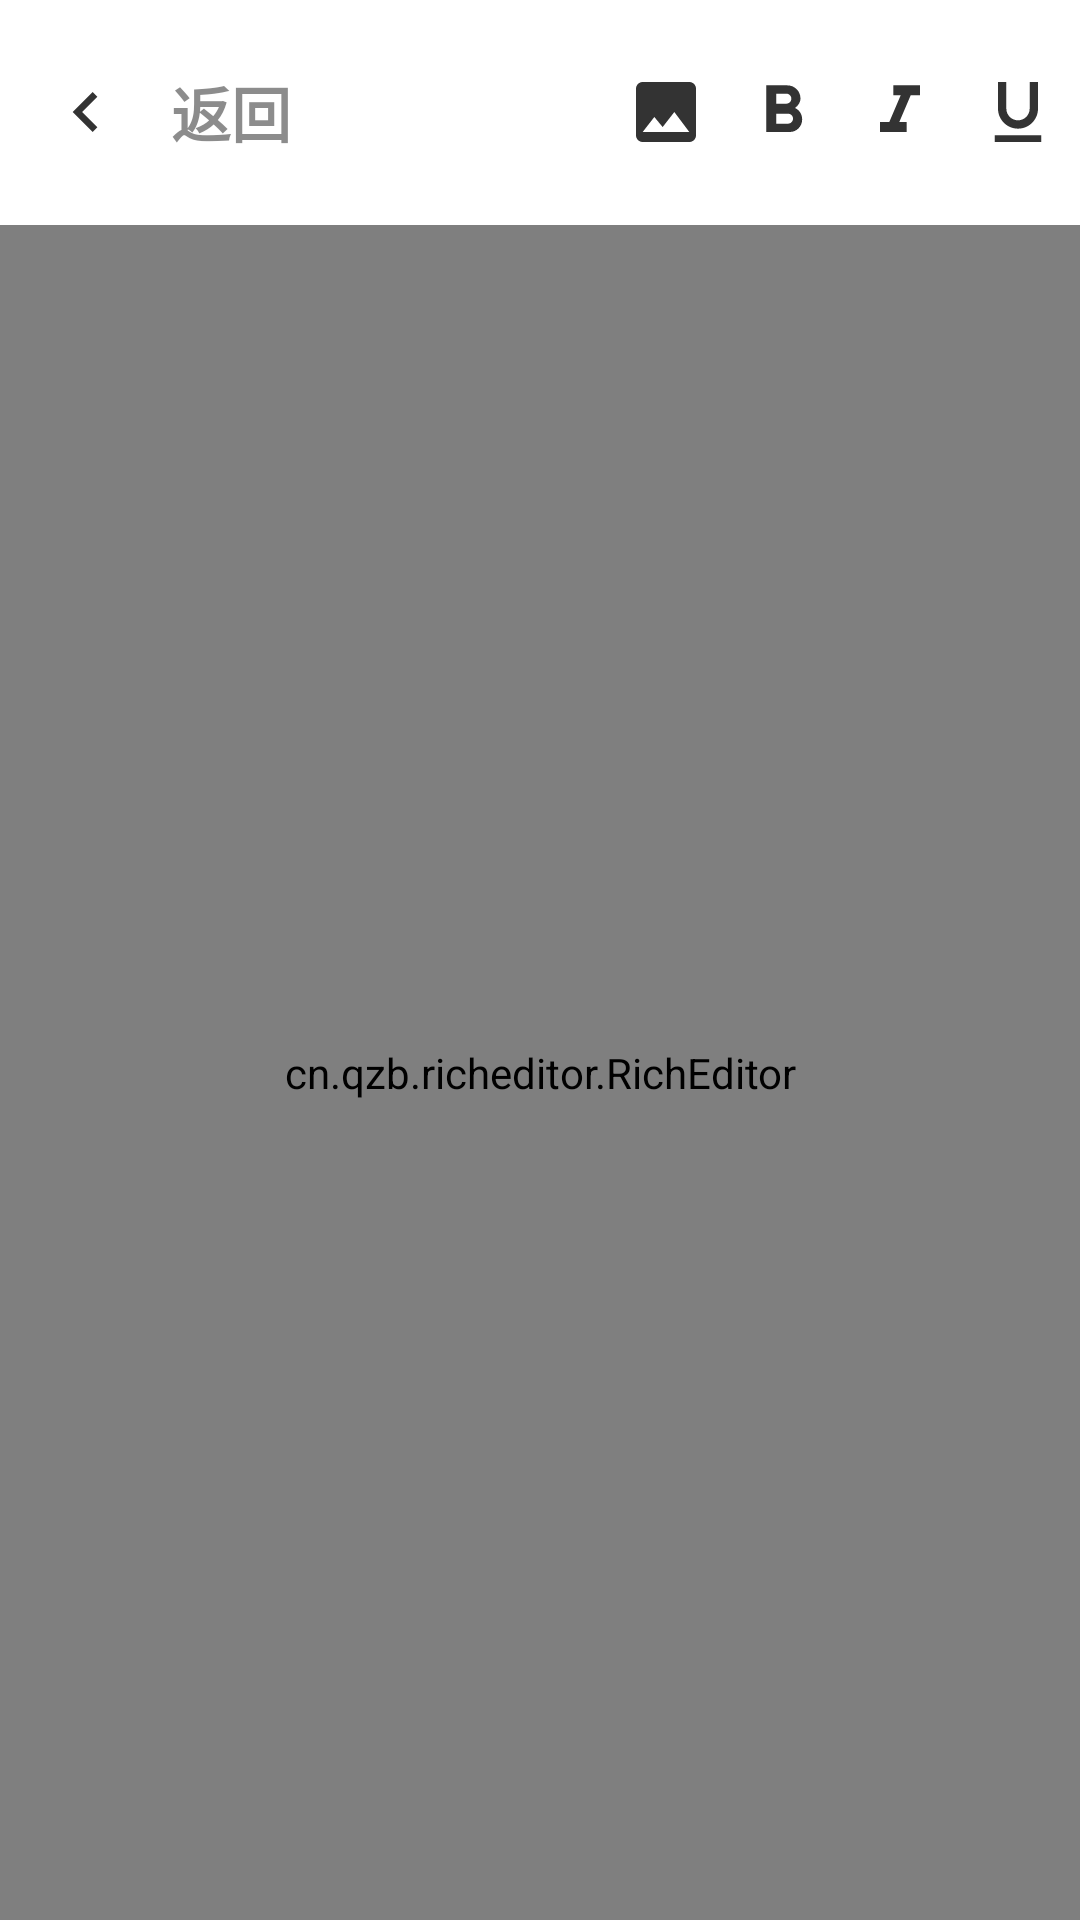

Icon click points for this 1080 x 1920 phone screenshot, format (x,y):
italic: (900,108)
leave: (85,112)
under: (1018,112)
